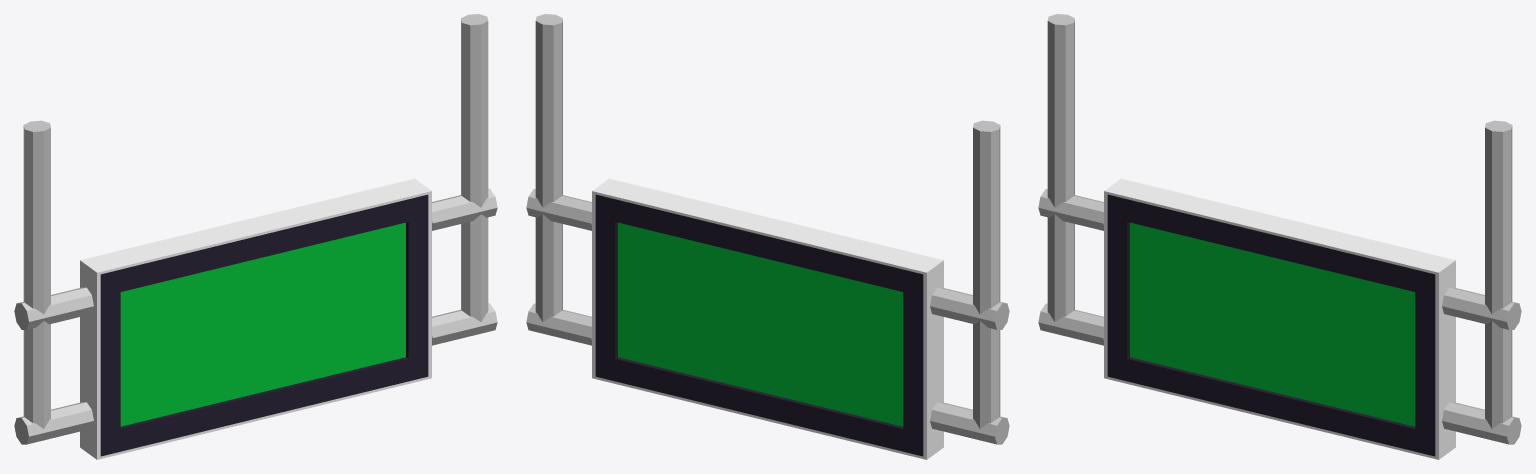
Rendered from emergency_sign.fbx.
3 renders of one model, left to right at view 1: azimuth 30°, elevation 25°; view 2: azimuth 150°, elevation 25°; view 3: azimuth 330°, elevation 25°, orthographic.
Visible parts, largest first — view 1: emergency_sign, emergency_sign_rig; view 2: emergency_sign, emergency_sign_rig; view 3: emergency_sign, emergency_sign_rig.
Part boxes in pixels (<box>): emergency_sign: <box>80,178,431,459</box>; emergency_sign_rig: <box>14,14,497,444</box>; emergency_sign: <box>592,178,943,459</box>; emergency_sign_rig: <box>526,14,1009,444</box>; emergency_sign: <box>1104,178,1455,459</box>; emergency_sign_rig: <box>1038,14,1521,444</box>.
Bounding box in the file's own units: 1.99 × 1.38 × 0.1259.
